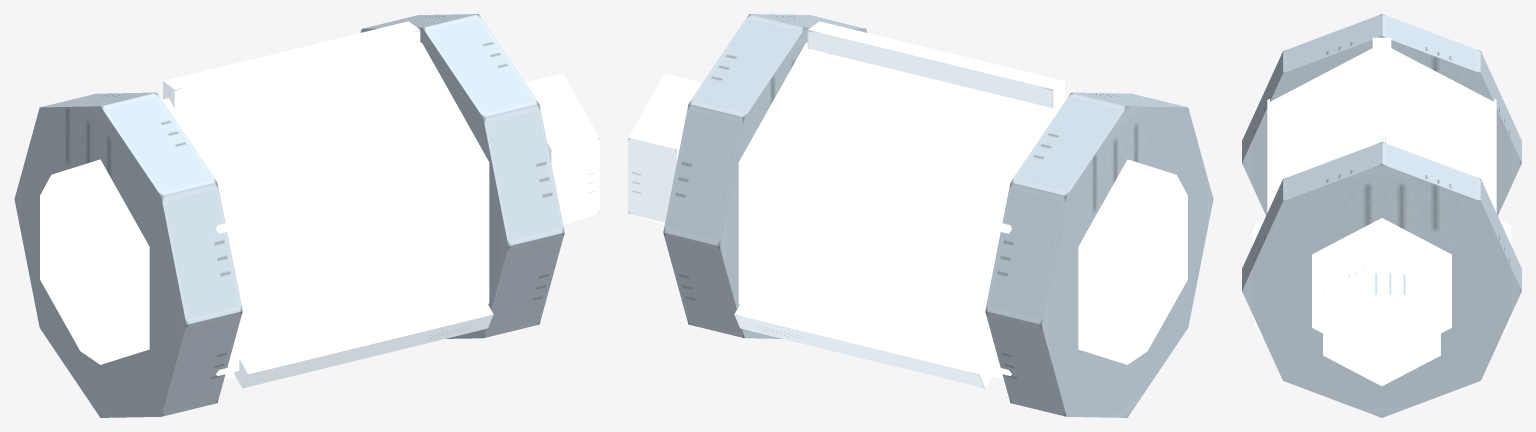
The model's file is catalyst.glb.
3 views of the same model, side by side, from view 1: azimuth 30°, elevation 25°; view 2: azimuth 150°, elevation 25°; view 3: azimuth 270°, elevation 25° (orthographic). The views are drawn at different scales.
Visible parts, largest first — view 1: catalyst; view 2: catalyst; view 3: catalyst.
Part boxes in pixels (left/top/right/bottom): catalyst: left=14, top=14, right=599, bottom=417; catalyst: left=628, top=14, right=1213, bottom=417; catalyst: left=1242, top=14, right=1521, bottom=417.
Bounding box in the file's own units: 0.12 × 0.075 × 0.074.
Materials: 3 (3 with a texture image).
